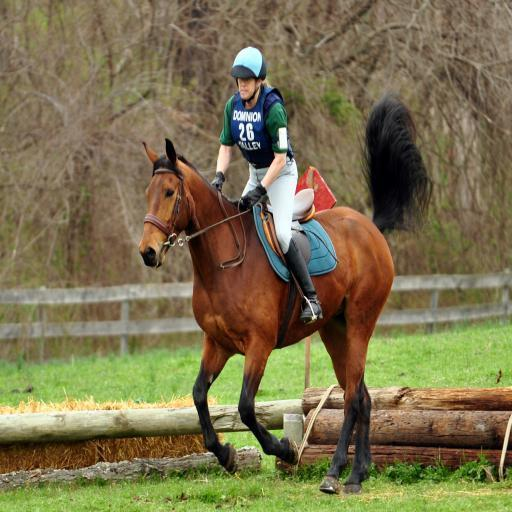horse: (137, 84, 436, 494)
